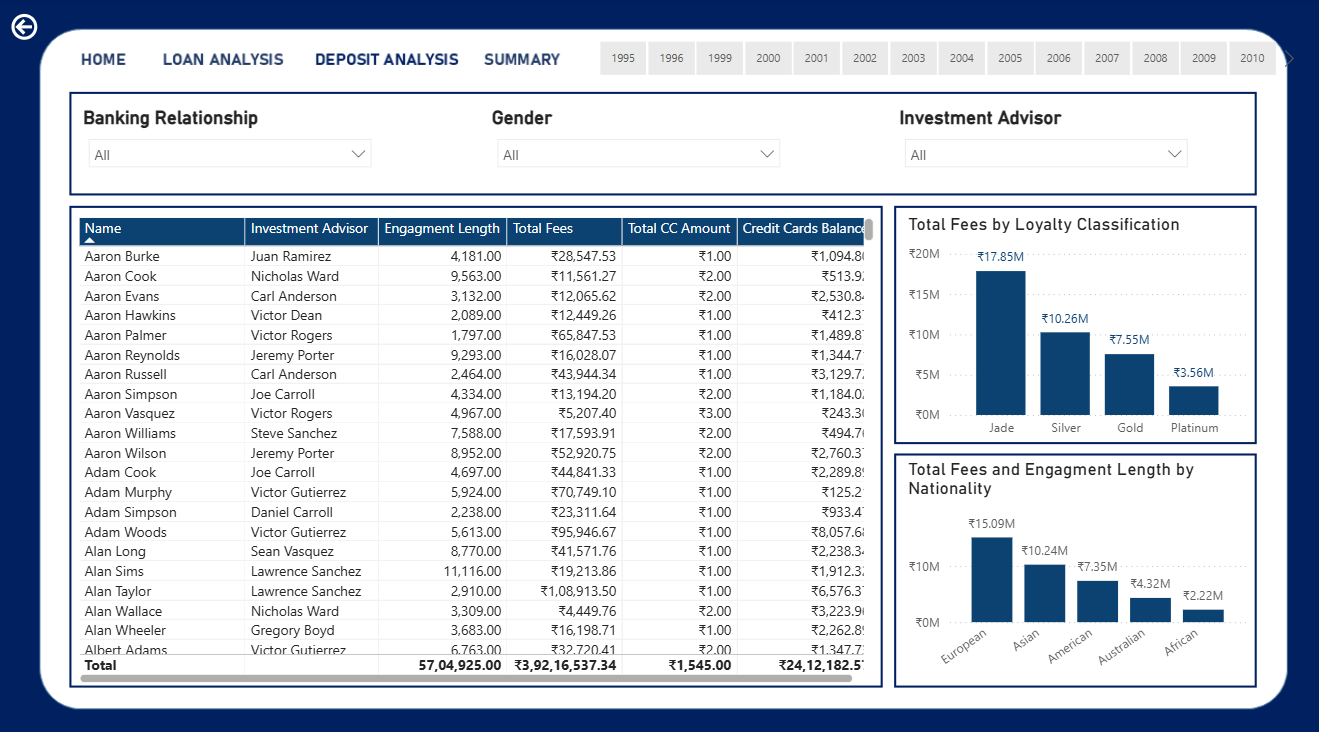

This screenshot's page, from the dashboard's own definition file:
{"tool":"powerbi","page":{"name":"Drill Through","canvas":[1280,720],"ordinal":4},"visuals":[{"type":"slicer","title":"Banking Relationship","fields":{"Values":["Banking Relationship.Banking Relationship"]},"box":[77.4,104.4,293.2,76.2],"z":0},{"type":"slicer","title":"Gender","fields":{"Values":["Gender.Gender"]},"box":[471.4,104.4,293.2,76.2],"z":1000},{"type":"slicer","title":"Investment Advisor","fields":{"Values":["Investment Advisor.Investment Advisor"]},"box":[865.4,104.4,293.2,76.2],"z":2000},{"type":"tableEx","fields":{"Values":["Clients - Banking.Name","Investment Advisor.Investment Advisor","DAX Measures.Engagment Length","DAX Measures.Total Fees","DAX Measures.Total CC Amount","DAX Measures.Credit Cards"]},"box":[72.7,207.6,777.5,458.5],"z":3000},{"type":"actionButton","box":[8.2,10.6,41,34],"z":4000},{"type":"clusteredColumnChart","fields":{"Category":["Clients - Banking.Loyalty Classification"],"Y":["DAX Measures.Total Fees"]},"box":[873.6,207.6,336.5,225.1],"z":5000},{"type":"columnChart","fields":{"Category":["Clients - Banking.Nationality"],"Y":["DAX Measures.Total Fees"]},"box":[873.6,444.4,336.5,221.6],"z":6000},{"type":"slicer","fields":{"Values":["Clients - Banking.Joined Bank.Variation.Date Hierarchy.Year"]},"box":[555.2,34.6,702.1,46.6],"z":7000},{"type":"actionButton","box":[72.8,44.2,58.5,31],"z":8000},{"type":"actionButton","box":[157.1,44.6,125.5,30.5],"z":9000},{"type":"actionButton","box":[297.9,44.6,151.3,30.5],"z":10000},{"type":"actionButton","box":[471.4,44.6,83.3,37.5],"z":11000}]}

Visuals, with their boxes in screenshot pixels (x1, y1, x2, y2), scaled from the page's 1280x720 canvas onto the 1319x732 screenshot:
"Banking Relationship" slicer: {"left": 80, "top": 106, "right": 382, "bottom": 184}
"Gender" slicer: {"left": 486, "top": 106, "right": 788, "bottom": 184}
"Investment Advisor" slicer: {"left": 892, "top": 106, "right": 1194, "bottom": 184}
tableEx - Clients - Banking.Name x Investment Advisor.Investment Advisor: {"left": 75, "top": 211, "right": 876, "bottom": 677}
actionButton: {"left": 8, "top": 11, "right": 51, "bottom": 45}
clusteredColumnChart - Clients - Banking.Loyalty Classification x DAX Measures.Total Fees: {"left": 900, "top": 211, "right": 1247, "bottom": 440}
columnChart - Clients - Banking.Nationality x DAX Measures.Total Fees: {"left": 900, "top": 452, "right": 1247, "bottom": 677}
slicer - Clients - Banking.Joined Bank.Variation.Date Hierarchy.Year: {"left": 572, "top": 35, "right": 1296, "bottom": 83}
actionButton: {"left": 75, "top": 45, "right": 135, "bottom": 76}
actionButton: {"left": 162, "top": 45, "right": 291, "bottom": 76}
actionButton: {"left": 307, "top": 45, "right": 463, "bottom": 76}
actionButton: {"left": 486, "top": 45, "right": 572, "bottom": 83}
